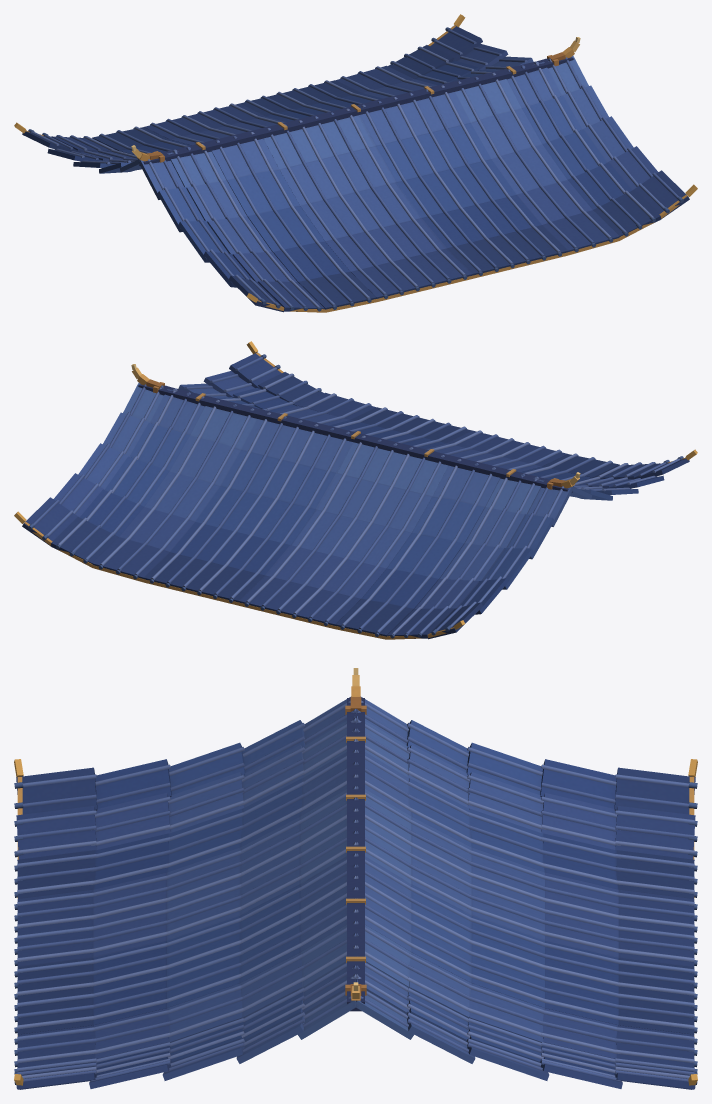
File: Fighting_Ring_Roof.glb
3 views of the same model, one above another, from view 1: azimuth 30°, elevation 25°; view 2: azimuth 150°, elevation 25°; view 3: azimuth 270°, elevation 25° (orthographic). The views are drawn at different scales.
Parts seen in each view (by area): view 1: Fighting_Ring_Roof; view 2: Fighting_Ring_Roof; view 3: Fighting_Ring_Roof.
Boxes of the visible parts, x1,y1,x2,y2 form: Fighting_Ring_Roof: [14, 14, 697, 312]; Fighting_Ring_Roof: [14, 341, 697, 639]; Fighting_Ring_Roof: [14, 668, 697, 1089].
Bounding box in the file's own units: 43.81 × 9.5 × 39.71.
Materials: 1 (1 with a texture image).
